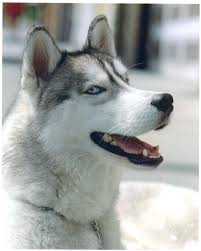Siberian Husky: (7, 15, 177, 249)
